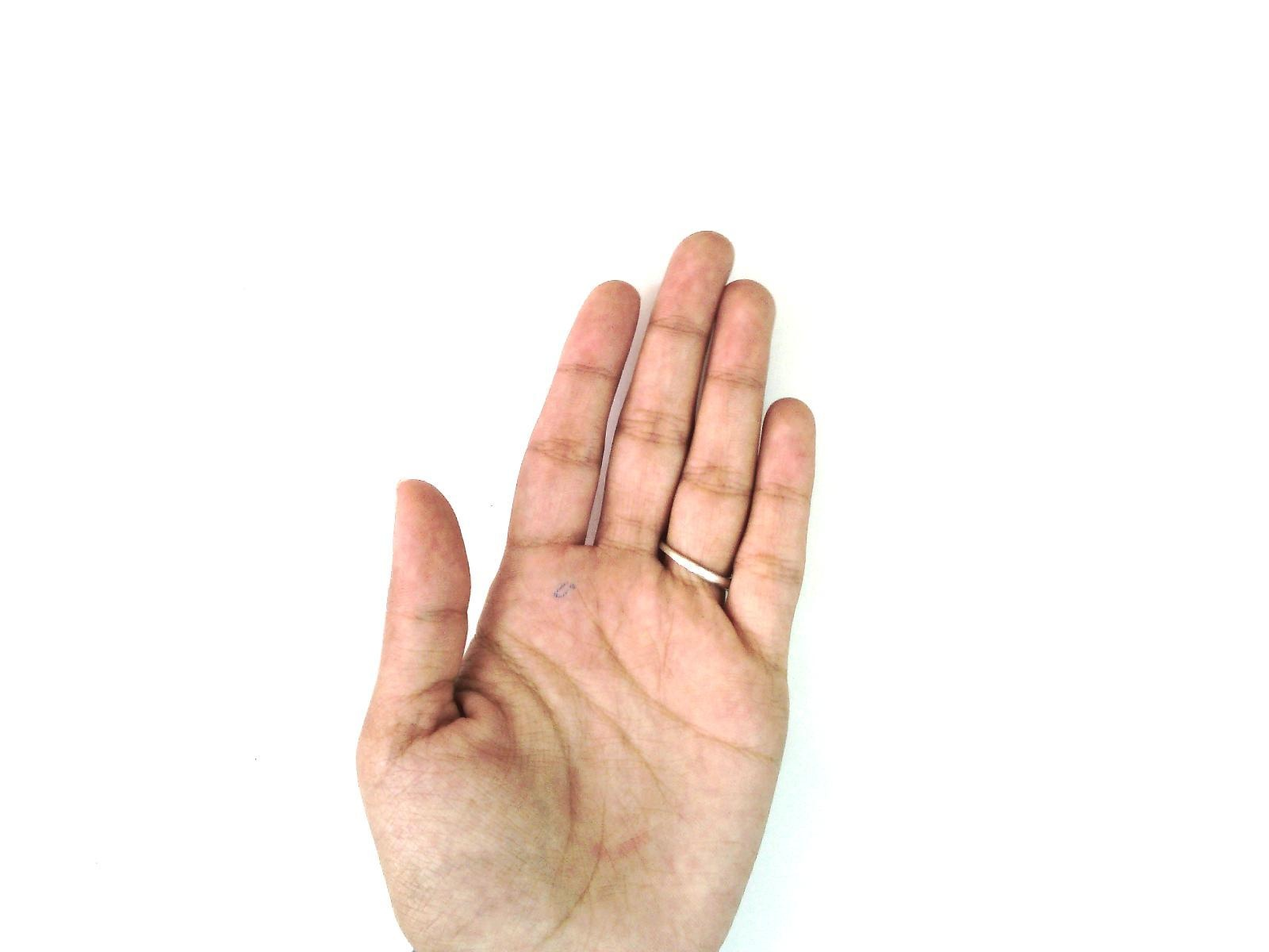open_palm: (354, 229, 820, 951)
